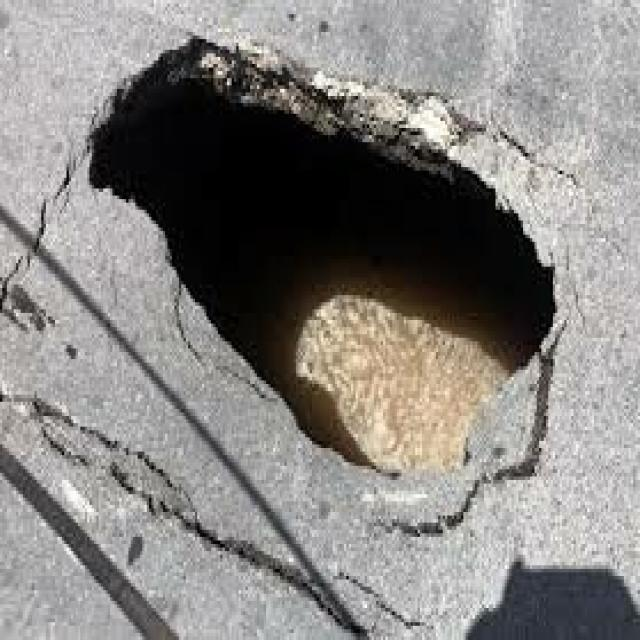pothole: (51, 21, 599, 594)
